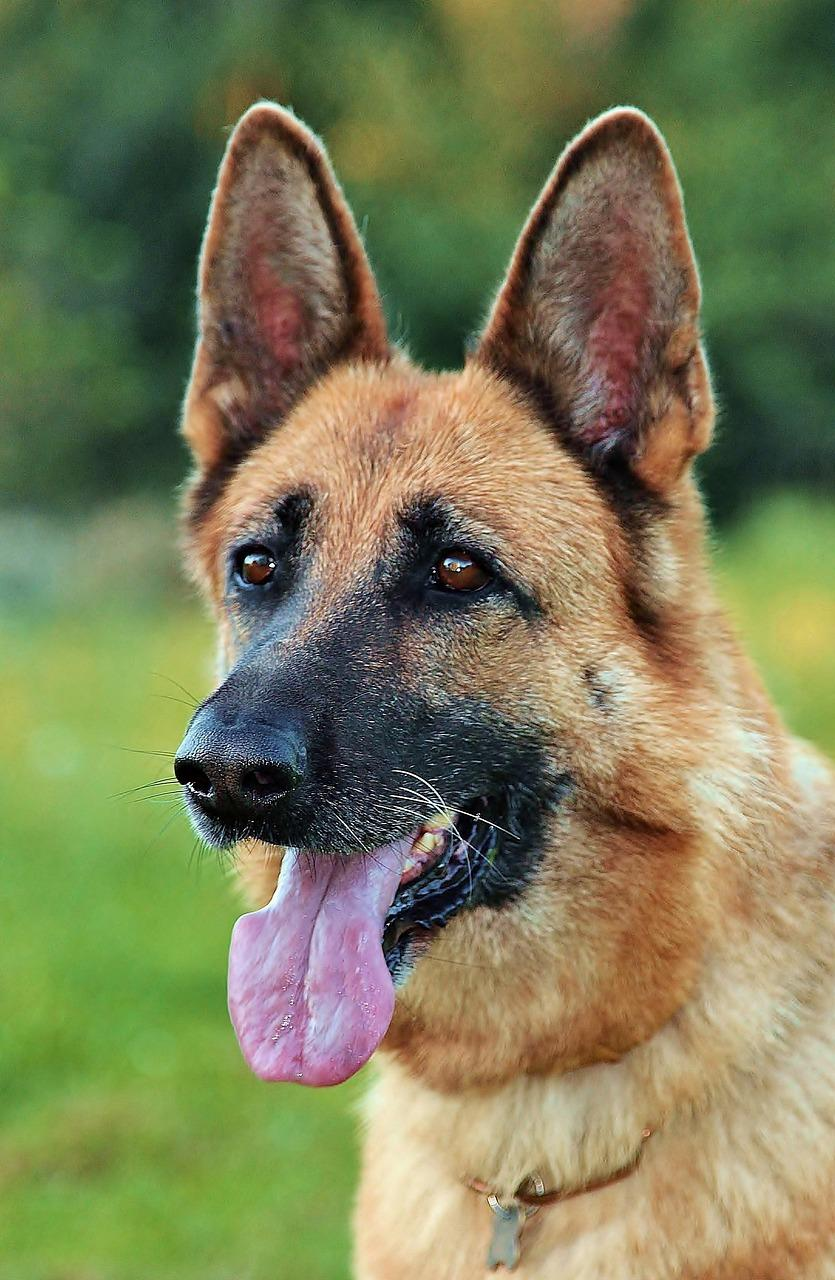german_shepherd: (119, 100, 678, 1075)
